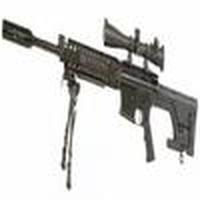gun: (1, 13, 200, 156)
